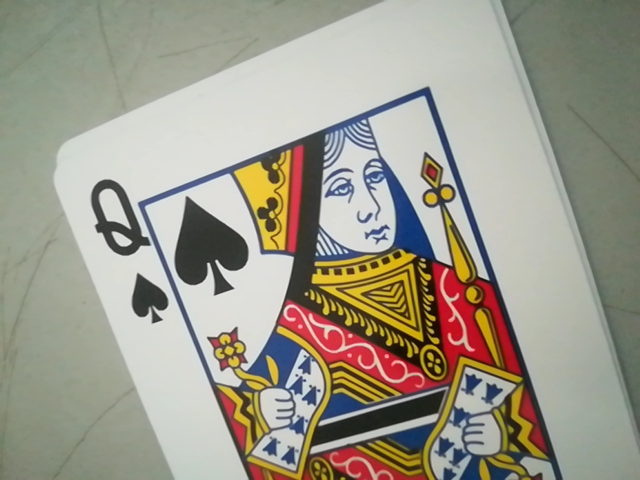ht q: (80, 172, 172, 322)
